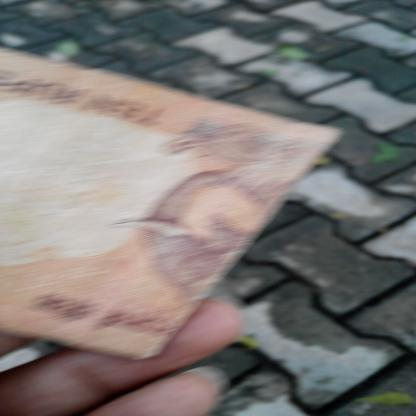Old10Back: (0, 48, 339, 358)
